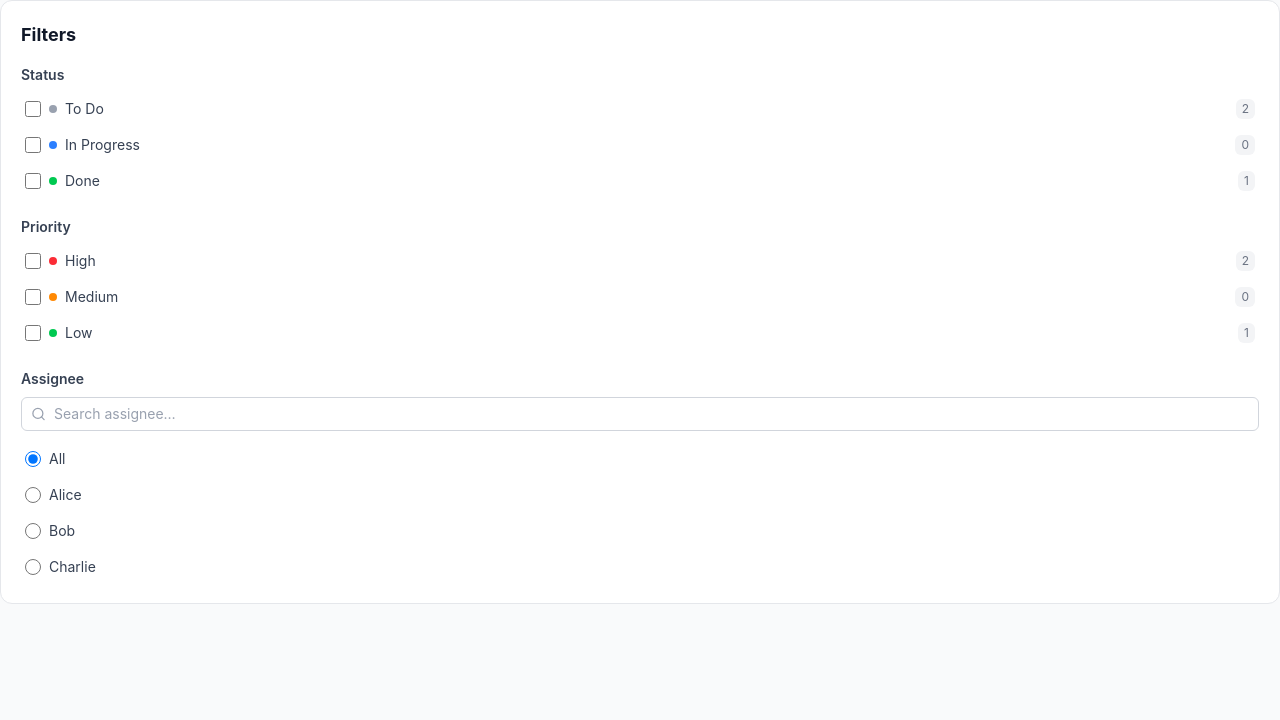
Test: TaskFilters › 'Clear all' resets every filter back to its default
Click the checkbox labelled "To Do 2".
click(33, 109)  # box [25,101,41,117]
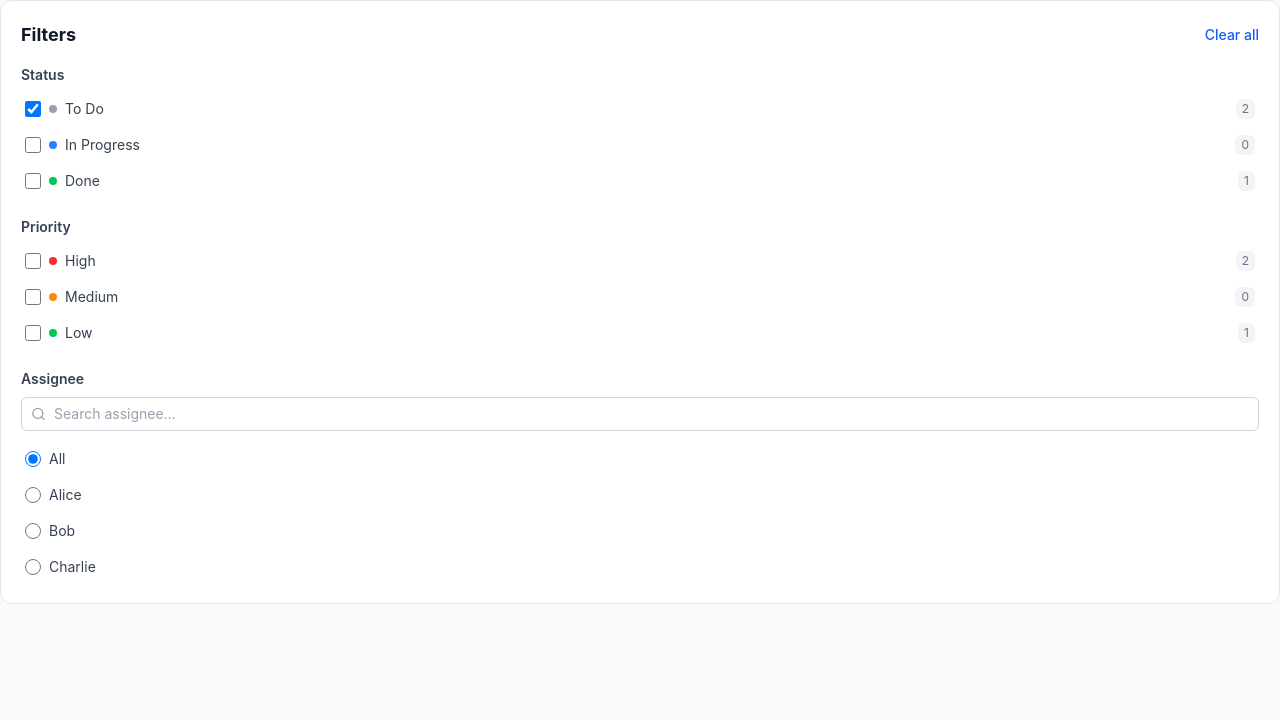
Click the checkbox labelled "High 2".
click(33, 261)  # box [25,253,41,269]
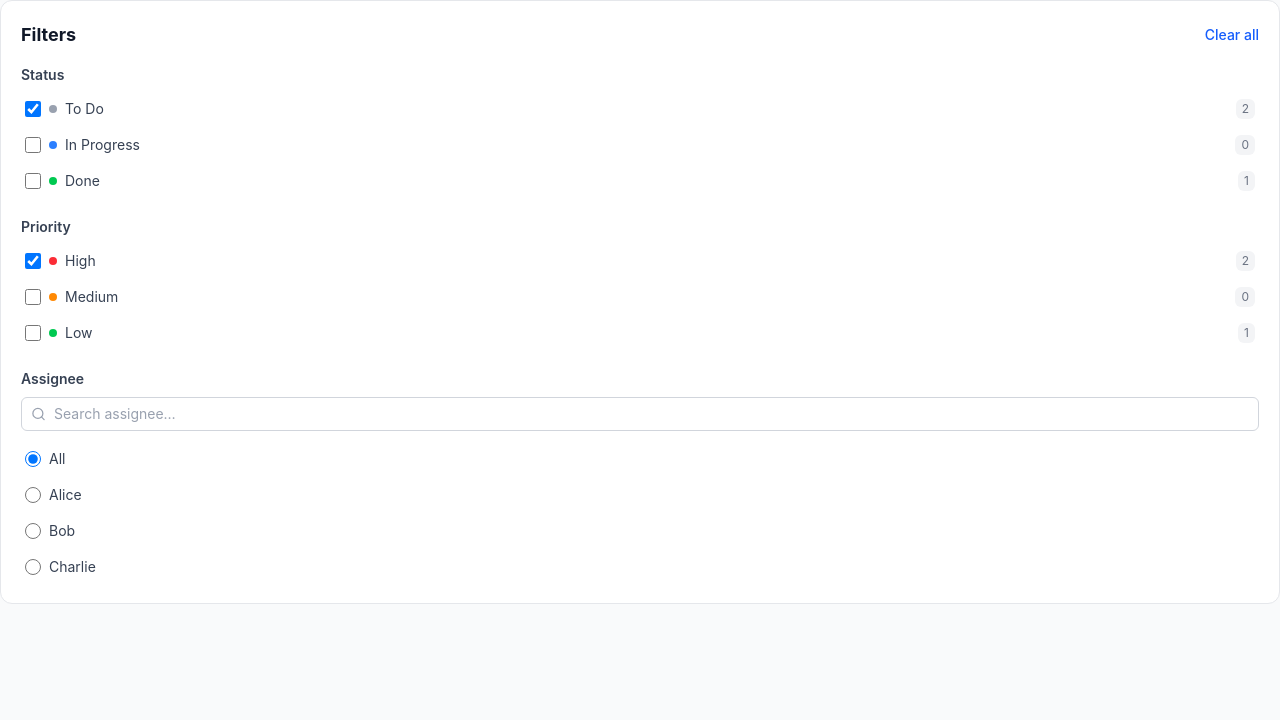
Click the radio button labelled "Bob".
click(33, 531)  # box [25,523,41,539]
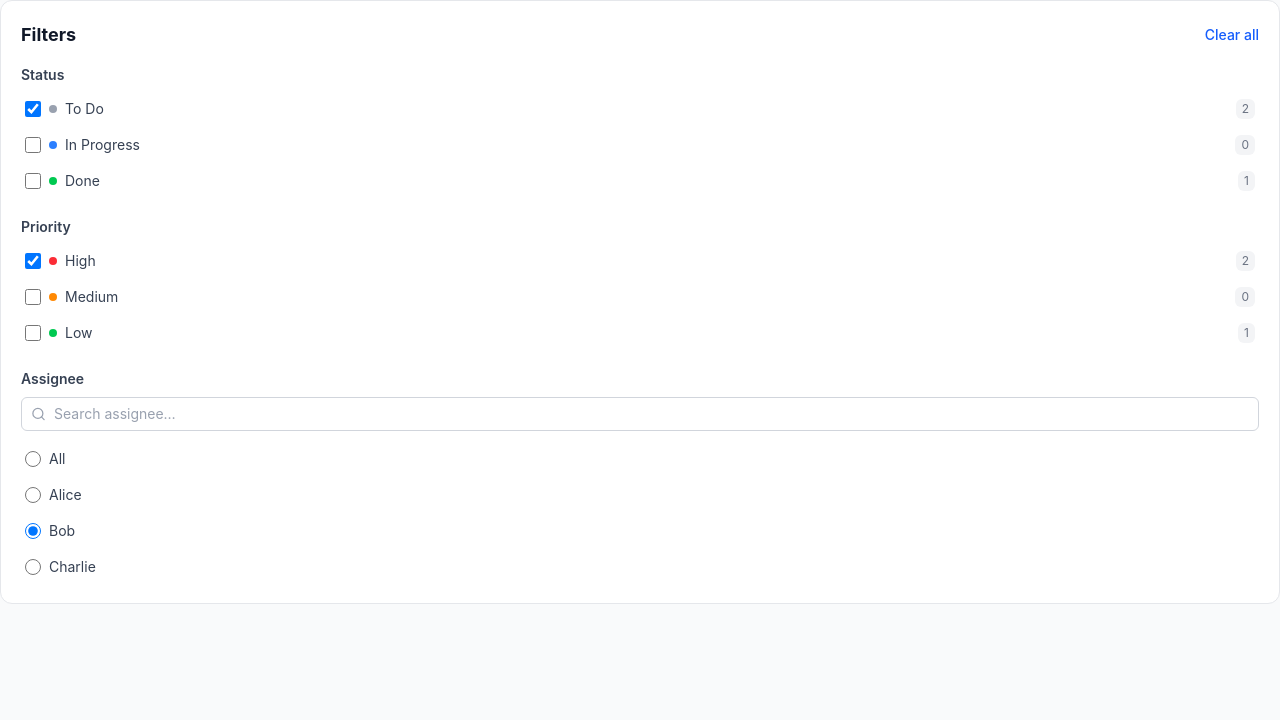
Click the button "Clear all".
click(1232, 35)  # box [1205,25,1259,45]
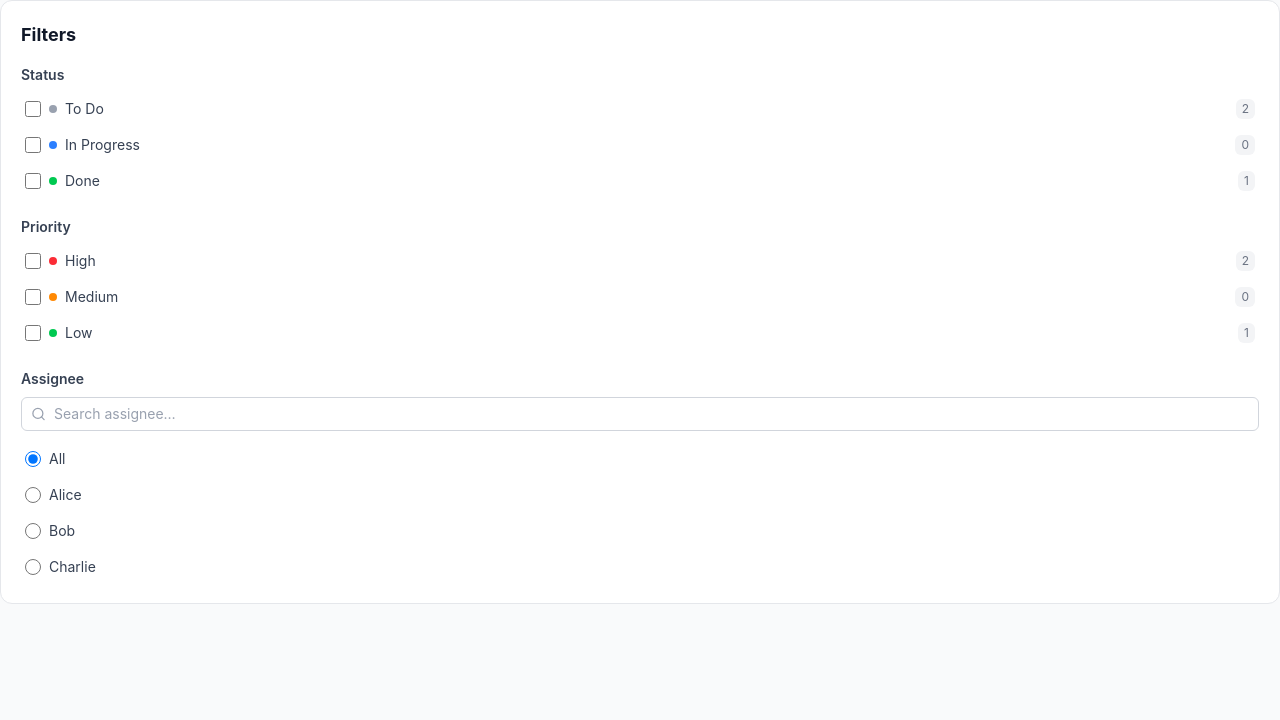
Now the checkbox labelled "To Do 2" is not checked, box [25,101,41,117]
Now the checkbox labelled "High 2" is not checked, box [25,253,41,269]
Now the radio button labelled "All" is checked, box [25,451,41,467]
